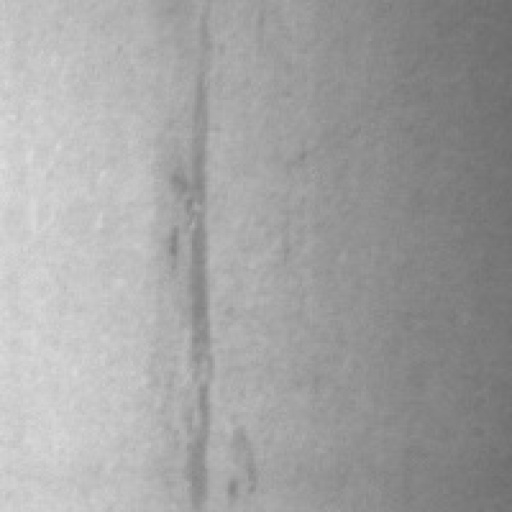inclusion: (160, 2, 235, 378), (174, 365, 263, 511)
